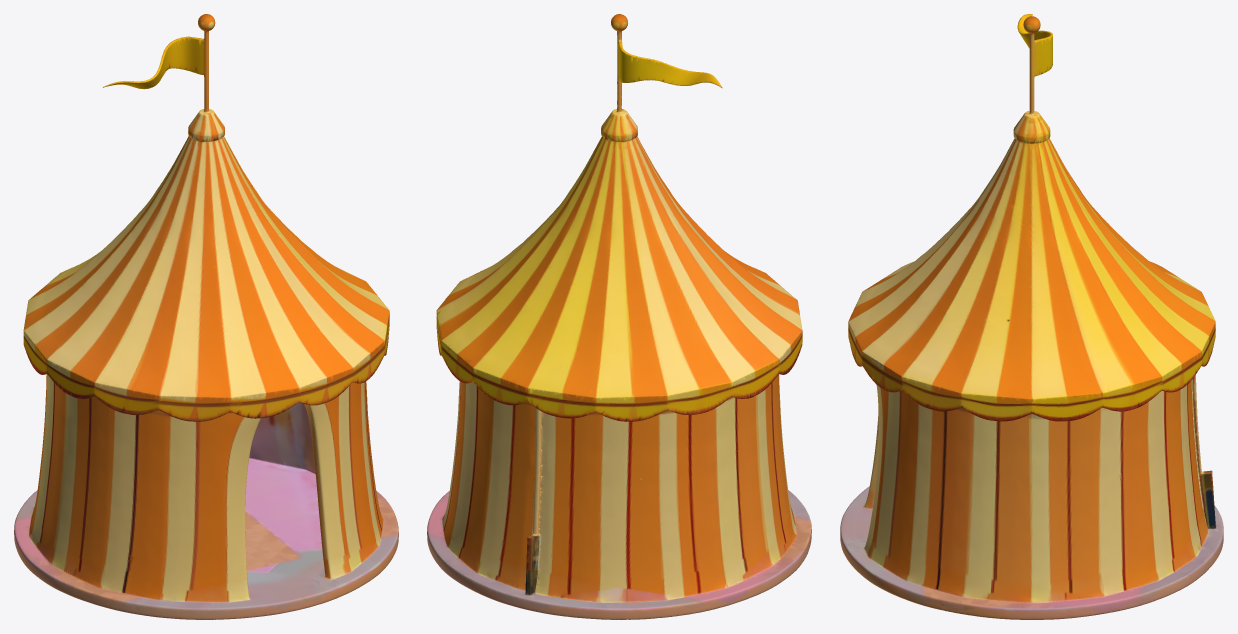
File: pavilion_v2.glb
3 views of the same model, side by side, from view 1: azimuth 30°, elevation 25°; view 2: azimuth 150°, elevation 25°; view 3: azimuth 270°, elevation 25° (orthographic).
Size of the model in its own units: 1.26 by 1.9 by 1.26.
1 material, 1 textured.
